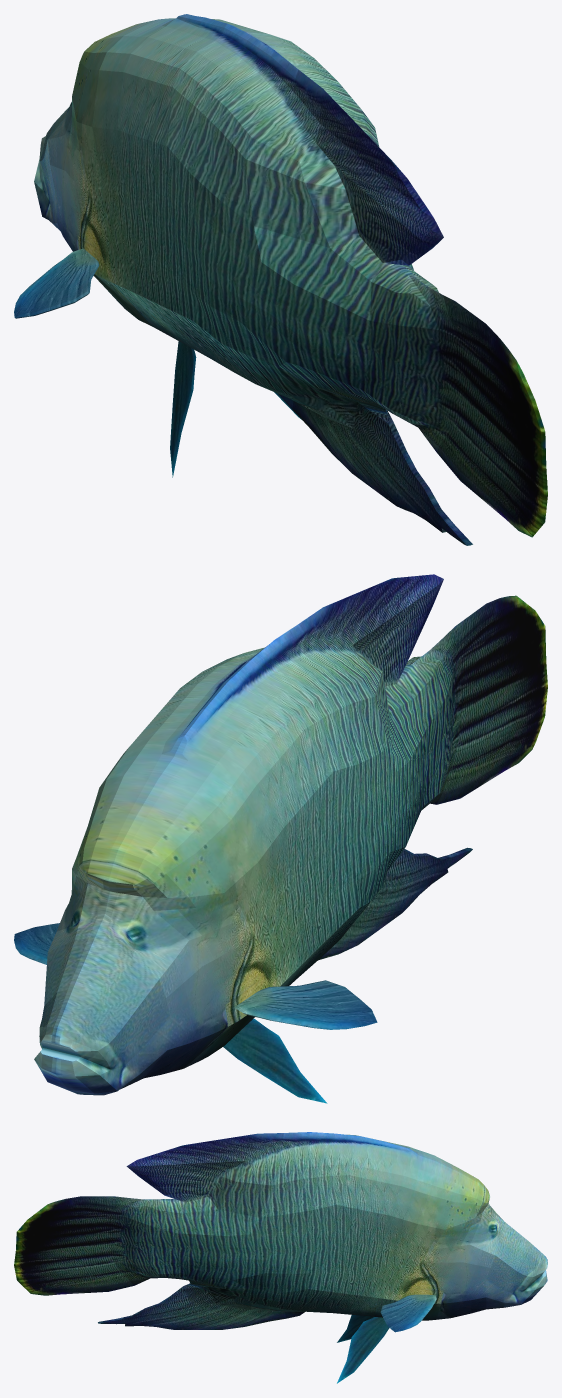
File: crassilabrus-undulatus.glb
The picture shows the model from 3 angles, top to bottom: view 1: azimuth 30°, elevation 25°; view 2: azimuth 150°, elevation 25°; view 3: azimuth 270°, elevation 25°; orthographic projection. The views are drawn at different scales.
Parts seen in each view (by area): view 1: humphead_wrasse, pectoral.l, pelvic.l; view 2: humphead_wrasse, pectoral.l, pelvic.l, pectoral.r; view 3: humphead_wrasse, pectoral.r, pelvic.r, pelvic.l.
Part boxes in pixels (x1,y1,x2,y2): humphead_wrasse: (34, 14, 547, 545); pectoral.l: (14, 248, 99, 318); pelvic.l: (170, 341, 196, 477); humphead_wrasse: (34, 574, 547, 1095); pectoral.l: (235, 980, 377, 1029); pelvic.l: (223, 1018, 327, 1103); pectoral.r: (14, 923, 59, 964); humphead_wrasse: (14, 1132, 547, 1329); pectoral.r: (380, 1294, 436, 1332); pelvic.r: (337, 1317, 389, 1383); pelvic.l: (337, 1315, 374, 1342).
Size of the model in its own units: 8.59 by 9.66 by 20.2.
Materials: 3 (3 with a texture image).
